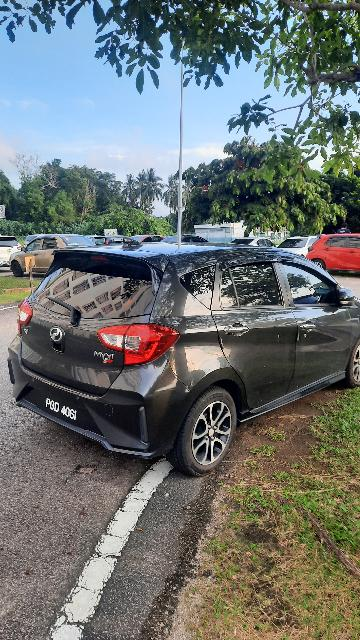License_Plate: (28, 389, 93, 429)
car: (8, 235, 360, 479)
